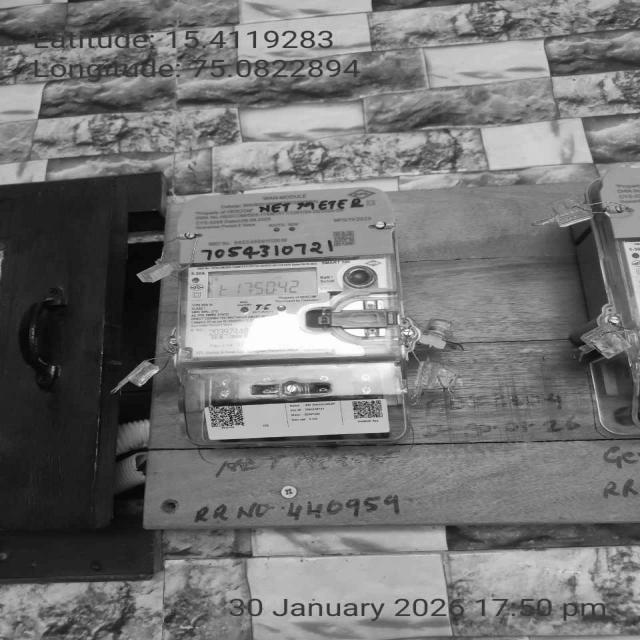meter: (167, 188, 422, 400)
